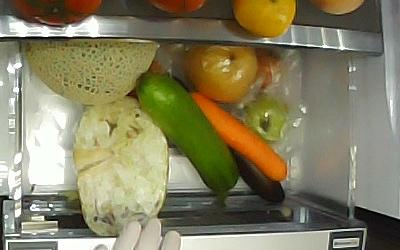cabbage: (74, 98, 168, 235)
carrot: (188, 93, 288, 182)
eggplant: (228, 144, 286, 205)
melon: (24, 42, 158, 104)
pear_vinyl: (182, 46, 257, 103)
prune_vinyl: (255, 48, 282, 89)
tomato_vinyl: (243, 98, 292, 146)
zucchini: (137, 74, 240, 194)
